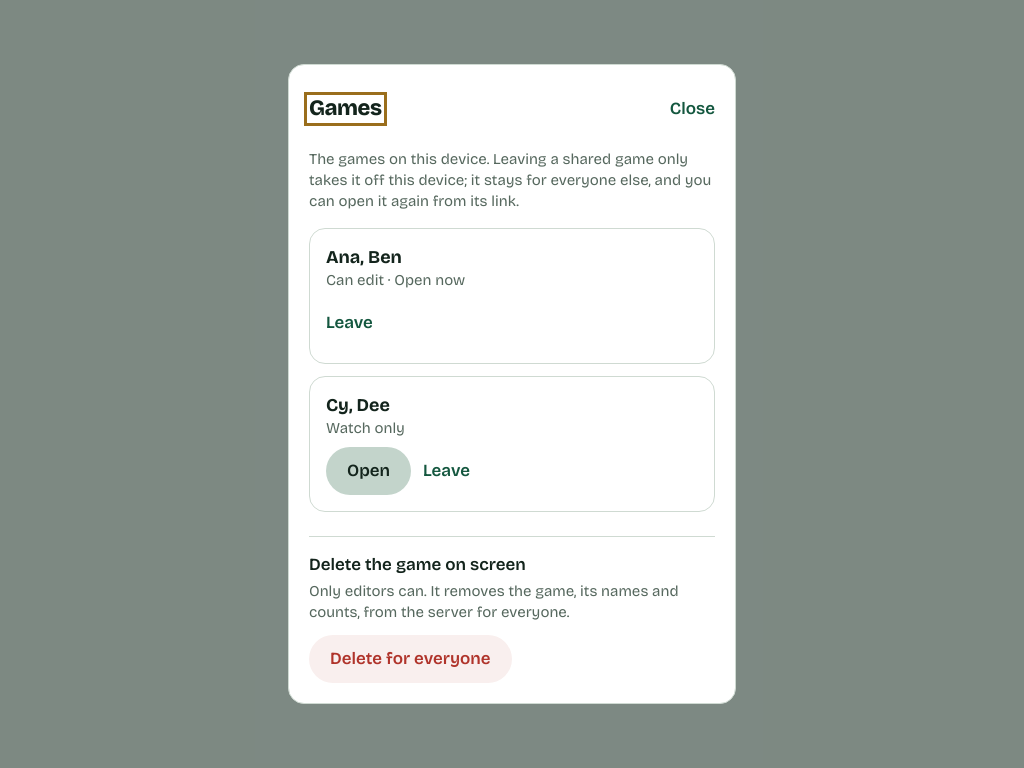
GamesControl (REQ-0003-17, -18, -21) › leaving another game removes it from this device only, and keeps the sheet open
Step 1. Click the button with aria-label "Leave Cy, Dee" → (446, 471), box [423, 447, 470, 495]
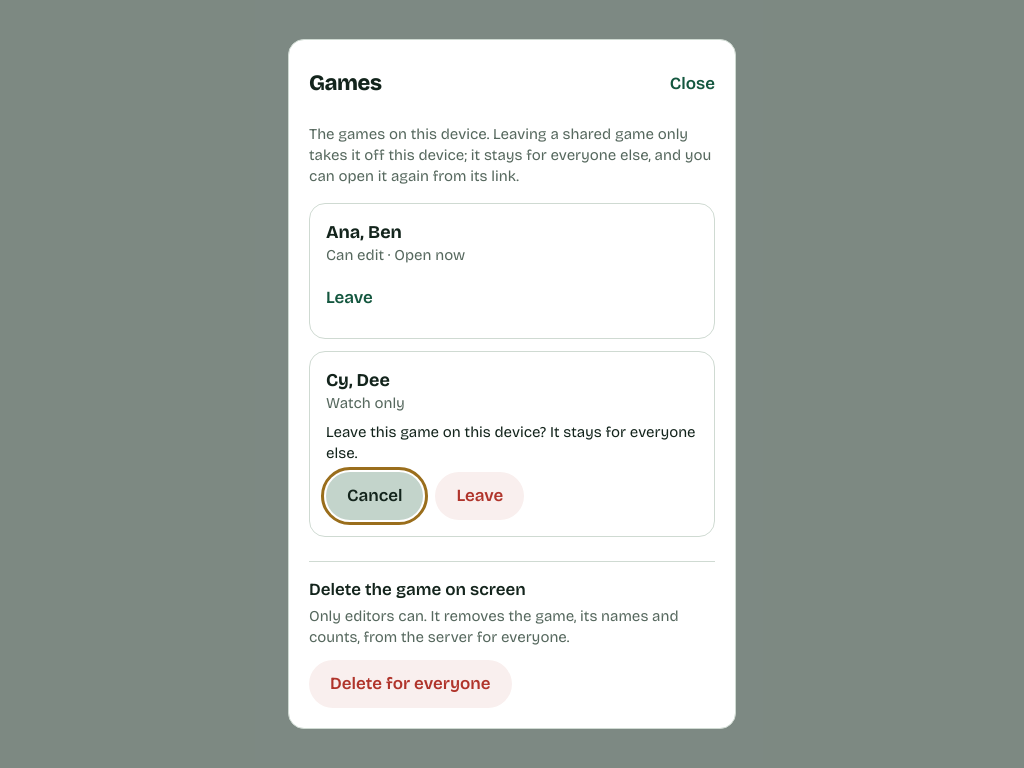
Step 2. Click the button with aria-label "Leave Cy, Dee" → (480, 496), box [436, 472, 524, 520]
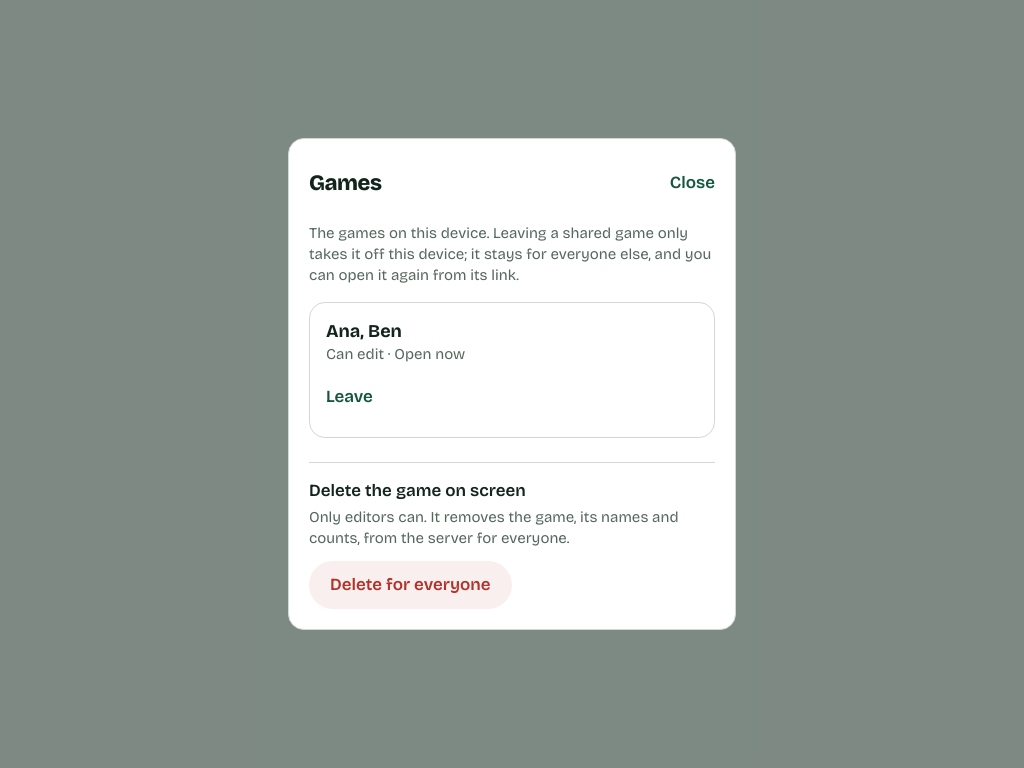
Now the text "Cy, Dee" is gone
